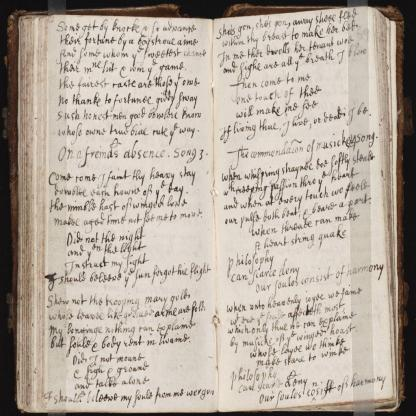book: (6, 0, 408, 414)
